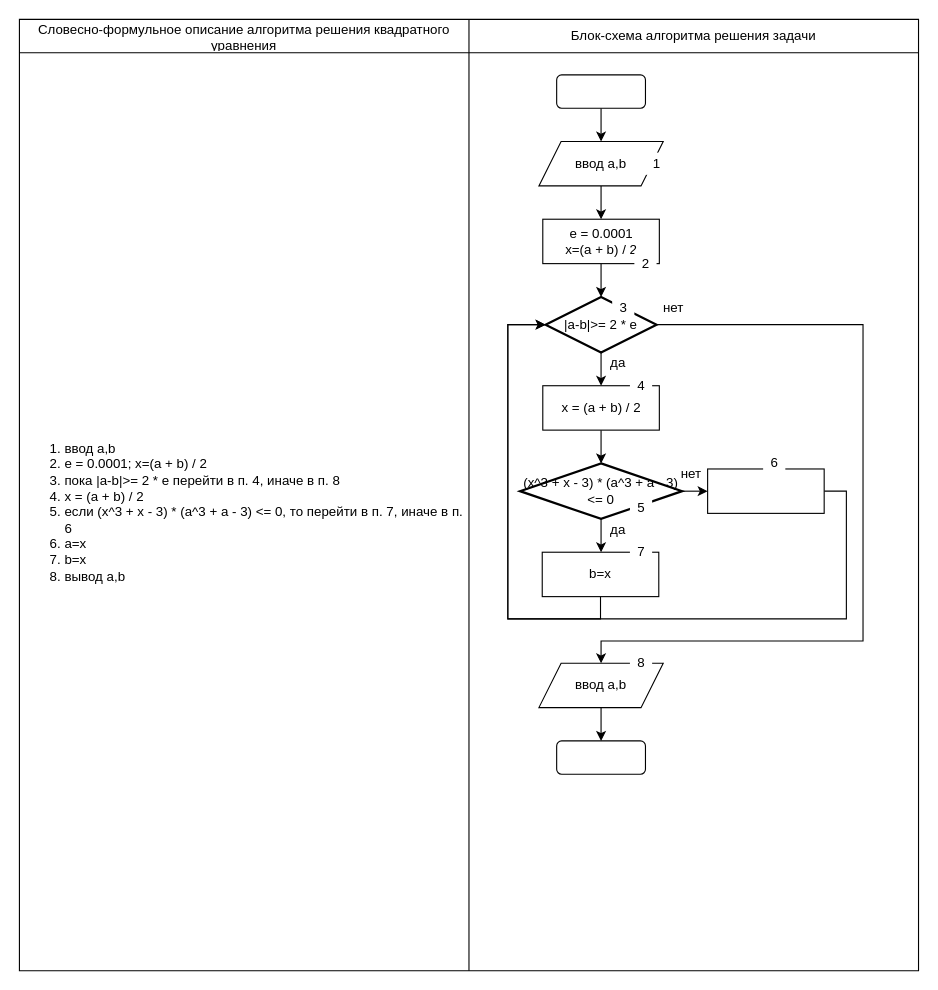
The diagram is 938 pixels wide and 990 high, and some of its shapes have lost their labels. The centre of each missing label's shape, as x and y in pixels:
"a=x" belongs at (x=765, y=490).
"конец" belongs at (x=600, y=757).
"начало" belongs at (x=600, y=91).
